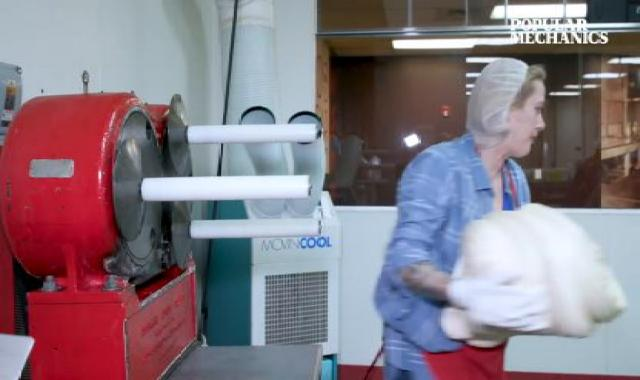hairnet: (454, 56, 544, 146)
